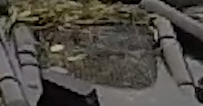bag: (10, 9, 194, 96)
